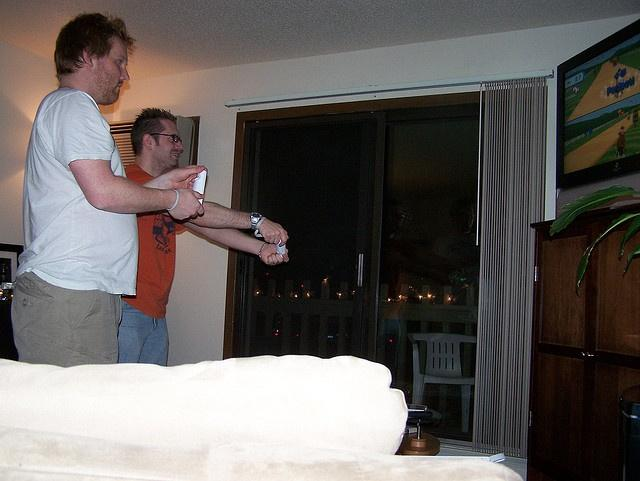AIO PC-Monitor-TV: (553, 16, 639, 192)
Lemari: (524, 200, 639, 480)
